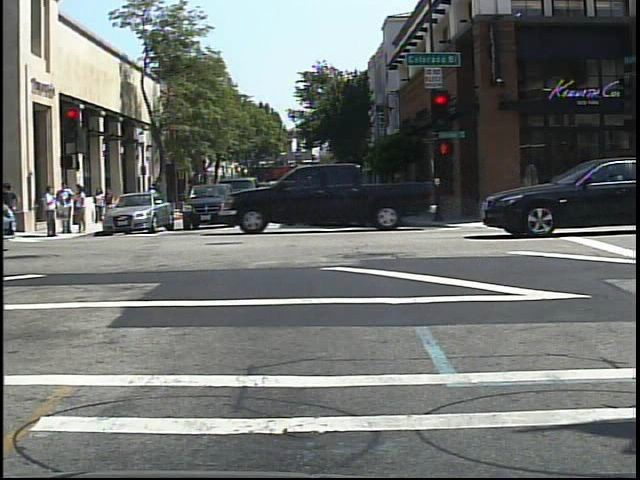person: (146, 180, 165, 220), (93, 186, 108, 227), (147, 181, 163, 213)
